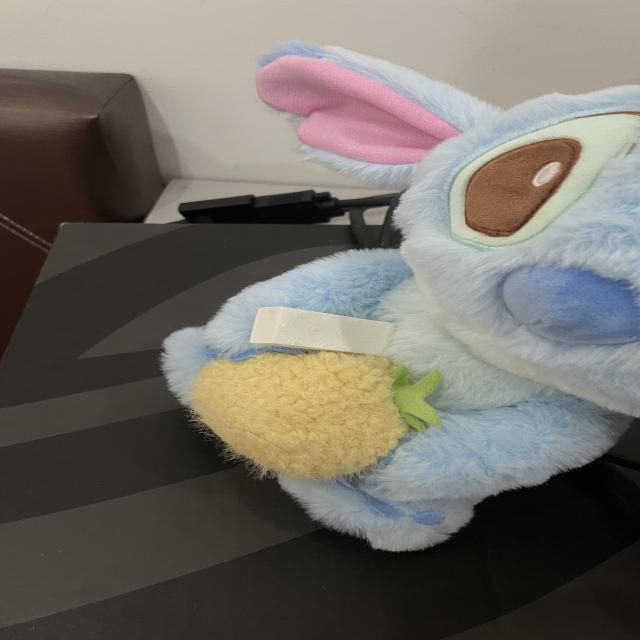eraser: (250, 307, 395, 355)
